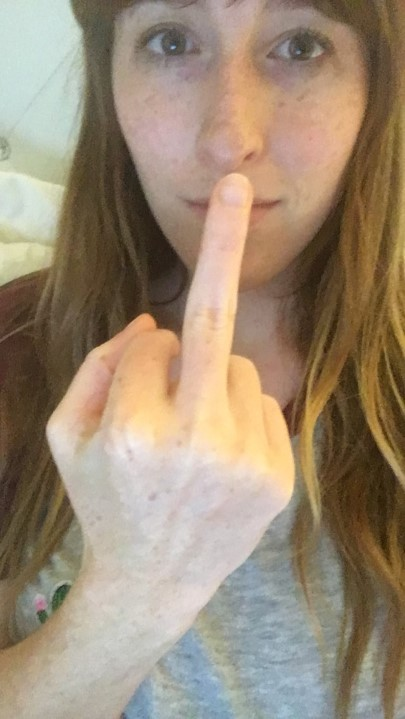hand: (44, 172, 294, 579)
